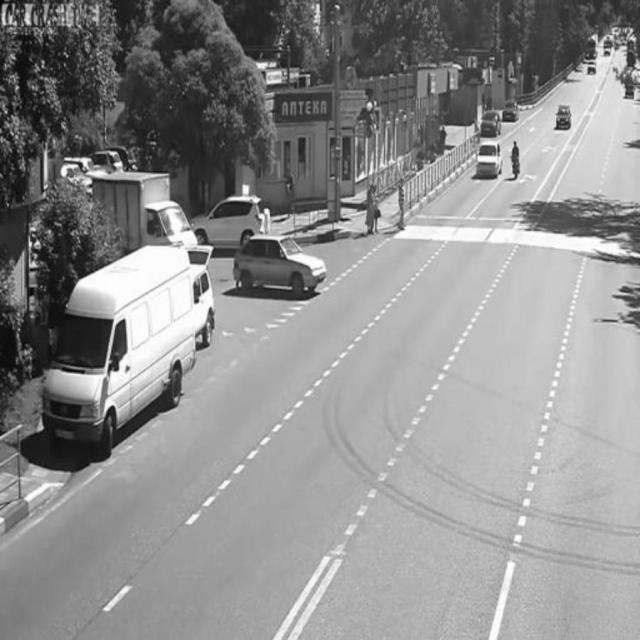person: (365, 179, 381, 237), (397, 174, 407, 235)
vehicle: (44, 243, 195, 451), (92, 164, 195, 246), (234, 235, 327, 296), (193, 196, 259, 253), (474, 137, 502, 184), (480, 106, 500, 136), (509, 140, 523, 182), (501, 93, 519, 125), (554, 102, 574, 130), (584, 57, 598, 77)
